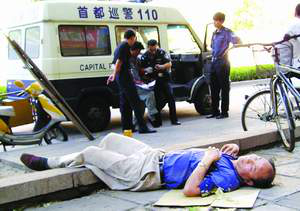fall: (18, 123, 279, 199)
